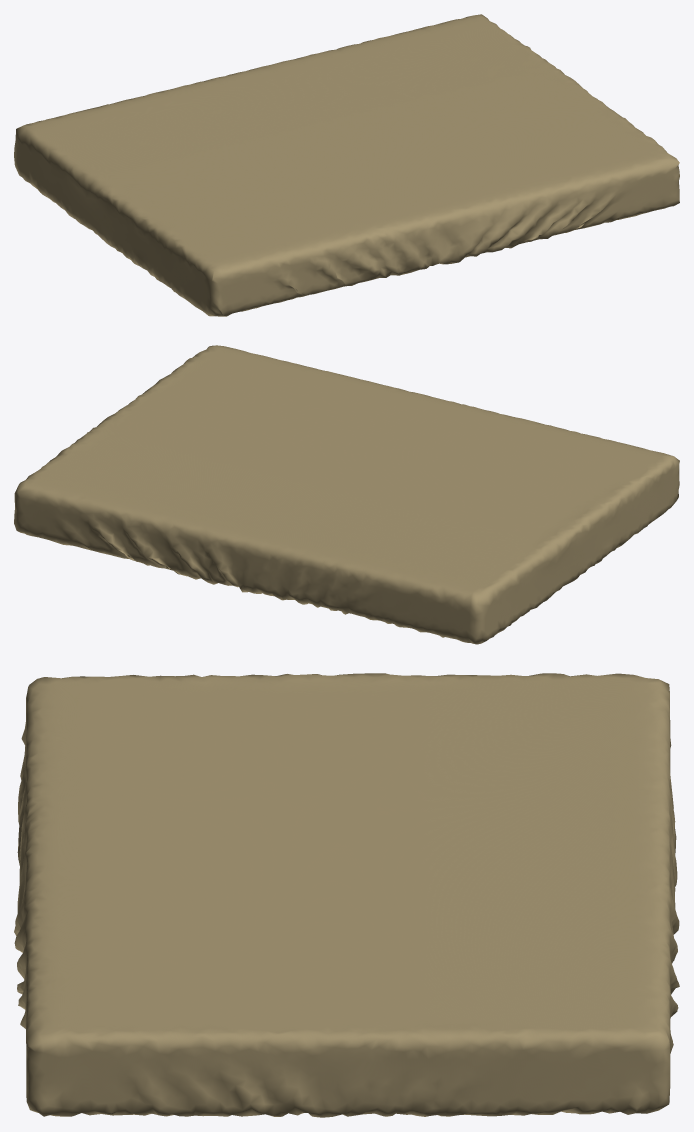
Rendered from SM_sheet.FBX.
3 renders of one model, top to bottom at view 1: azimuth 30°, elevation 25°; view 2: azimuth 150°, elevation 25°; view 3: azimuth 270°, elevation 25°, orthographic. The views are drawn at different scales.
Visible parts, largest first — view 1: SM_sheet; view 2: SM_sheet; view 3: SM_sheet.
Boxes of the visible parts, x1,y1,x2,y2 form: SM_sheet: (14,14,679,316); SM_sheet: (14,345,679,644); SM_sheet: (14,673,679,1117).
Size of what is drawn, in the model's own units: 660 by 503 by 76.36.
